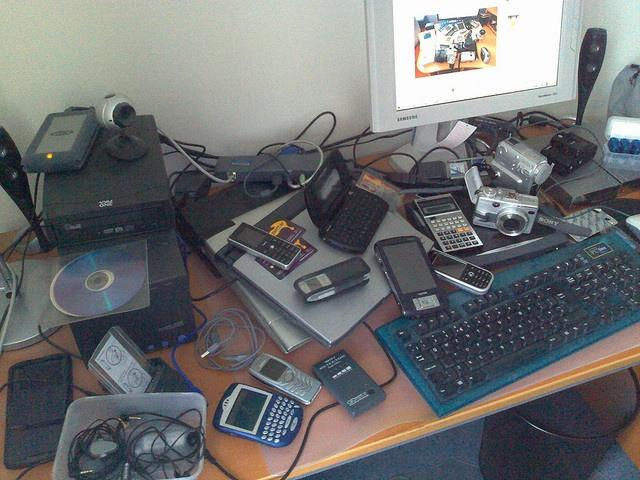AIO PC-Monitor-TV: (362, 0, 585, 135)
